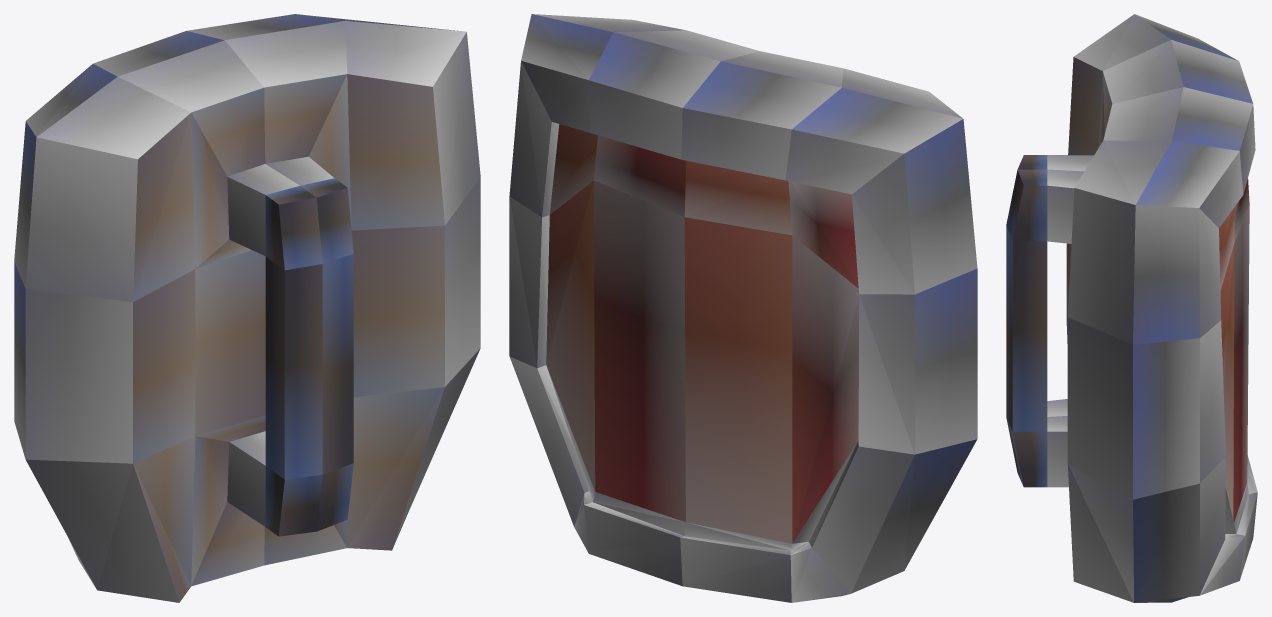
The model's file is shield04.fbx.
The picture shows the model from 3 angles, left to right: view 1: azimuth 30°, elevation 25°; view 2: azimuth 150°, elevation 25°; view 3: azimuth 270°, elevation 25°; orthographic projection. The views are drawn at different scales.
Parts seen in each view (by area): view 1: shield04; view 2: shield04; view 3: shield04.
Boxes of the visible parts, box(x1,y1,x2,y2) form: shield04: box(14, 14, 480, 602); shield04: box(509, 14, 977, 602); shield04: box(1006, 14, 1257, 602).
Size of the model in its own units: 101 by 109 by 52.87.
